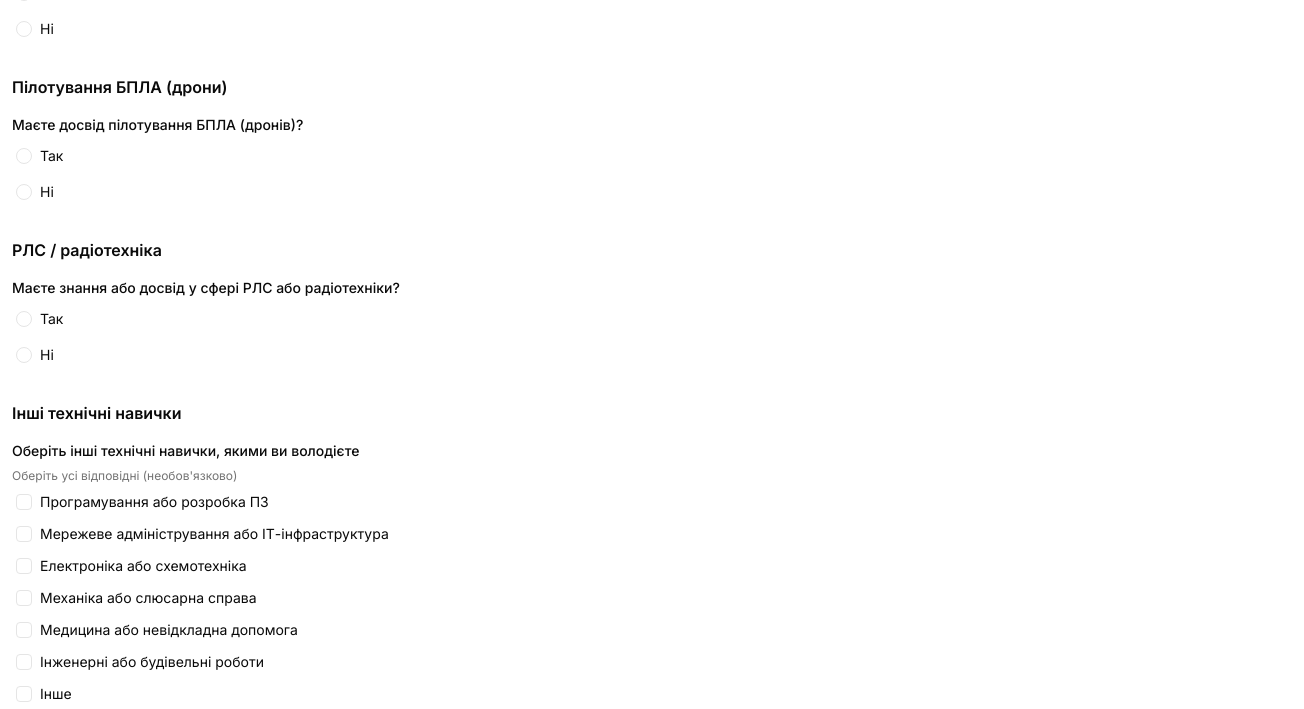
Scenario: QualificationsBlock — other skills › shows text field when Інше is selected in other skills
(page scrolled)
Click the text "Інше": (56, 694) [40, 684, 72, 704]
(page scrolled)
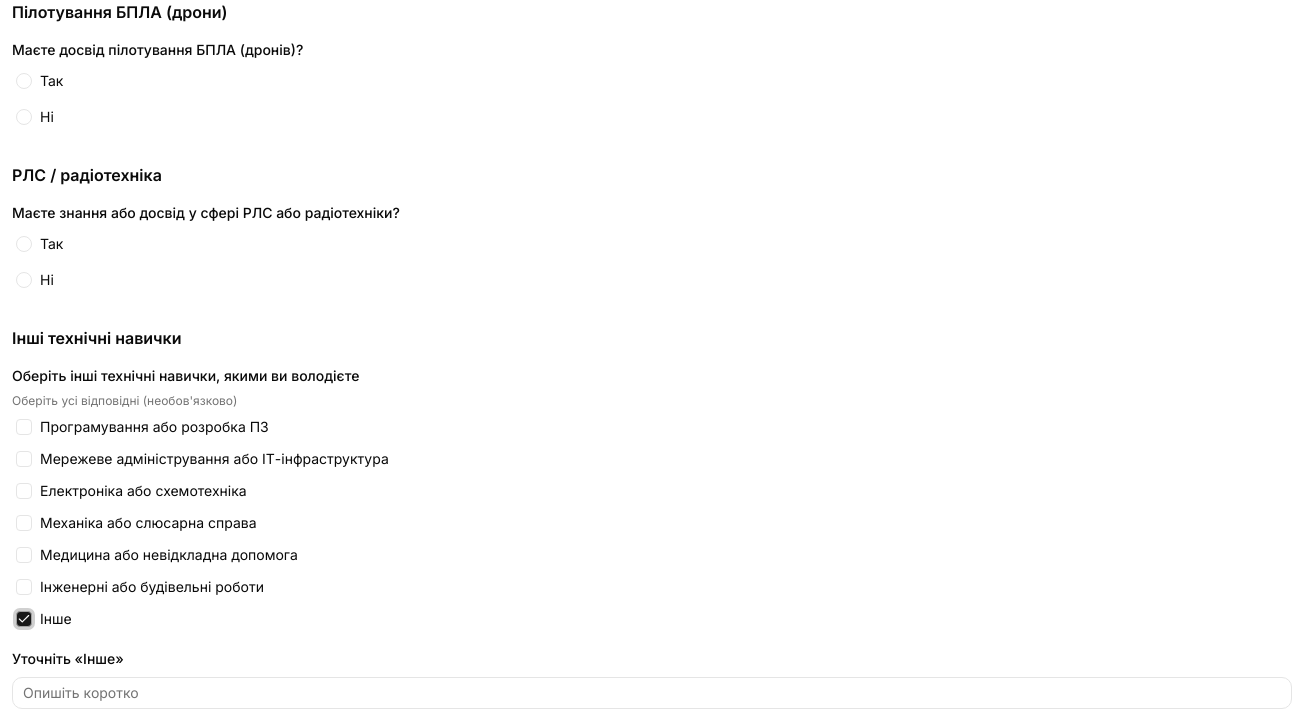
Check: the text "Уточніть «Інше»" is shown, box [12, 650, 124, 667]
